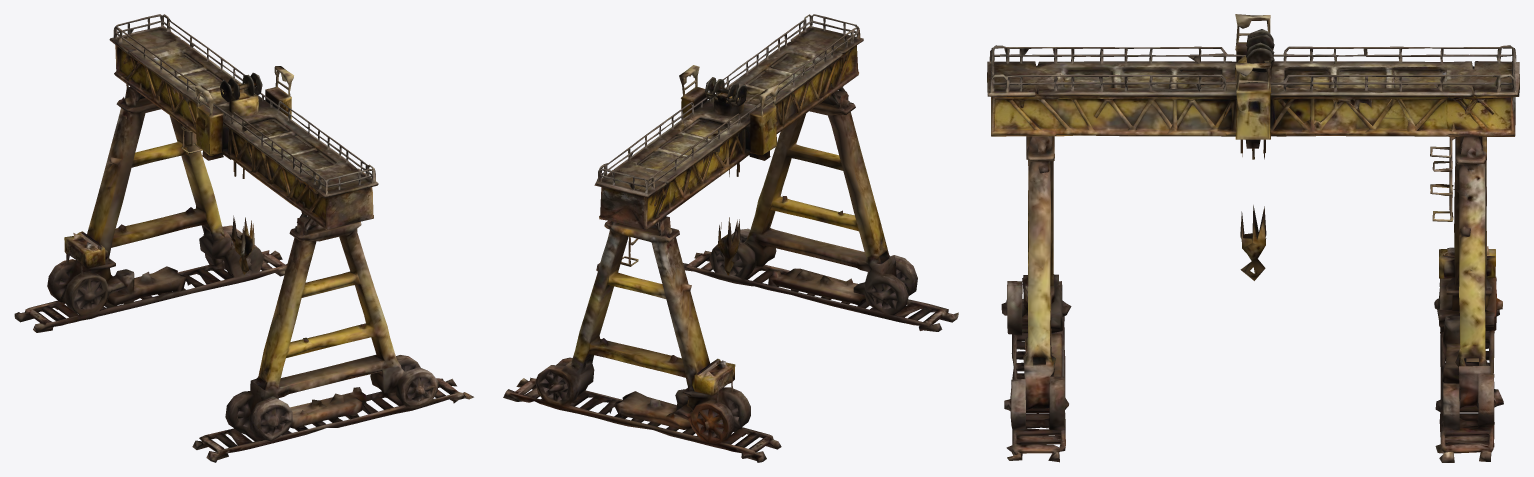
The model's file is rd_gantry.glb.
The picture shows the model from 3 angles, left to right: view 1: azimuth 30°, elevation 25°; view 2: azimuth 150°, elevation 25°; view 3: azimuth 270°, elevation 25°; orthographic projection. The views are drawn at different scales.
Parts seen in each view (by area): view 1: tripo_node_c89d93cd-3436-4e0b-a57f-11d28c2cfea8; view 2: tripo_node_c89d93cd-3436-4e0b-a57f-11d28c2cfea8; view 3: tripo_node_c89d93cd-3436-4e0b-a57f-11d28c2cfea8.
Part boxes in pixels (x1=…): tripo_node_c89d93cd-3436-4e0b-a57f-11d28c2cfea8: x1=14, y1=14, x2=473, y2=462; tripo_node_c89d93cd-3436-4e0b-a57f-11d28c2cfea8: x1=503, y1=14, x2=958, y2=462; tripo_node_c89d93cd-3436-4e0b-a57f-11d28c2cfea8: x1=987, y1=14, x2=1519, y2=462.
Bounding box in the file's own units: 0.6915 × 0.7037 × 0.9789.
1 material, 1 textured.
